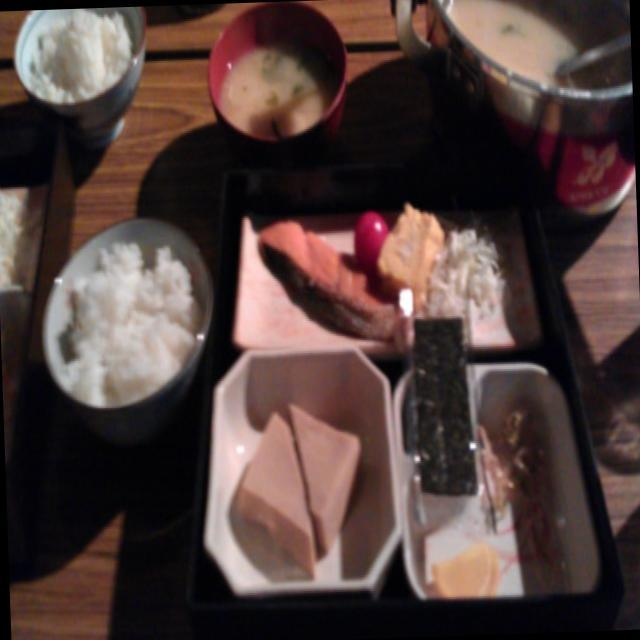Rice: (0, 6, 131, 99)
